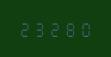eight: (63, 20, 77, 37)
three: (33, 20, 47, 37)
two: (18, 20, 32, 37), (48, 20, 62, 37)
zero: (78, 20, 92, 37)
